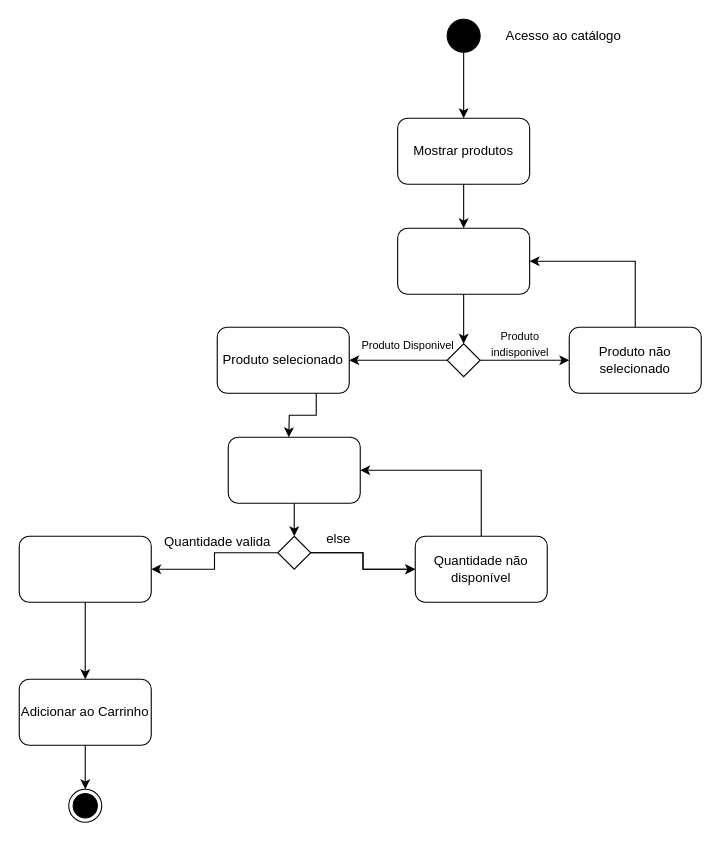
This 721x842 diagram has some shape labels left out. Here are the shapes that lost their labels. From the top down, the centre of each, then its label:
At (463,260): "Selecionar produto".
At (293,469): "Selecionar quantidade de produtos".
At (84,568): "Quantidade de produtos disponíveis".
